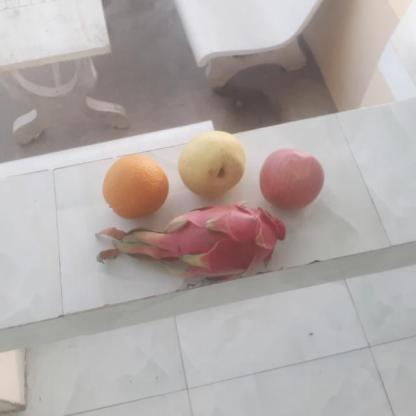apple: (258, 148, 328, 210)
orange: (102, 154, 172, 220)
pear: (174, 132, 249, 200)
pitaya: (163, 201, 297, 279)
